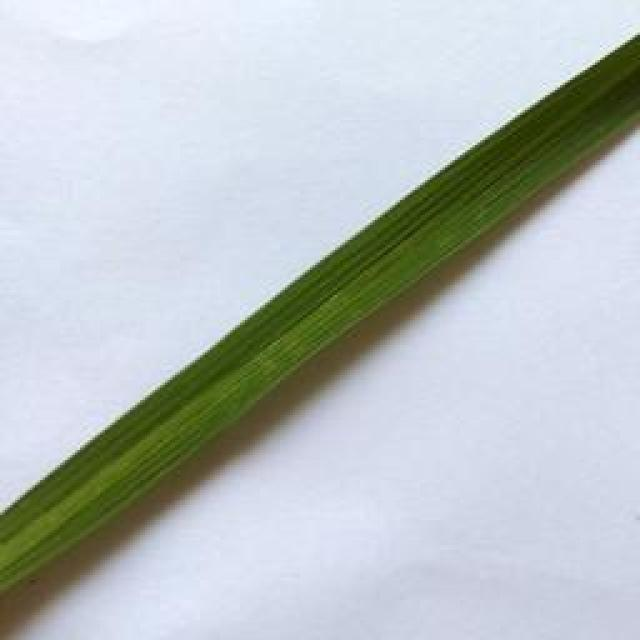Healthy-Plant: (387, 36, 640, 282)
